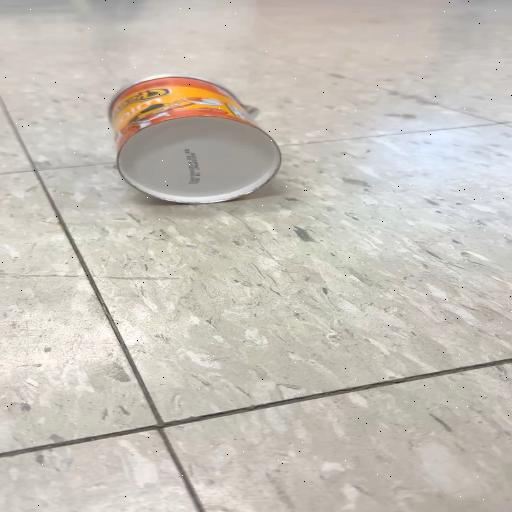pringles: (108, 76, 279, 203)
